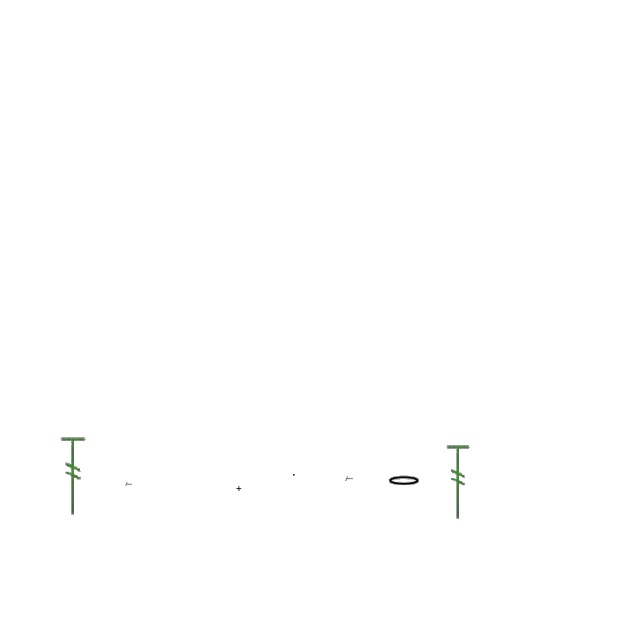chain: (386, 474, 422, 488), (293, 474, 295, 476)
double: (236, 486, 242, 492)
enseble_chain: (345, 476, 353, 482), (126, 482, 132, 486)
fan: (58, 435, 90, 517), (444, 443, 474, 521)
